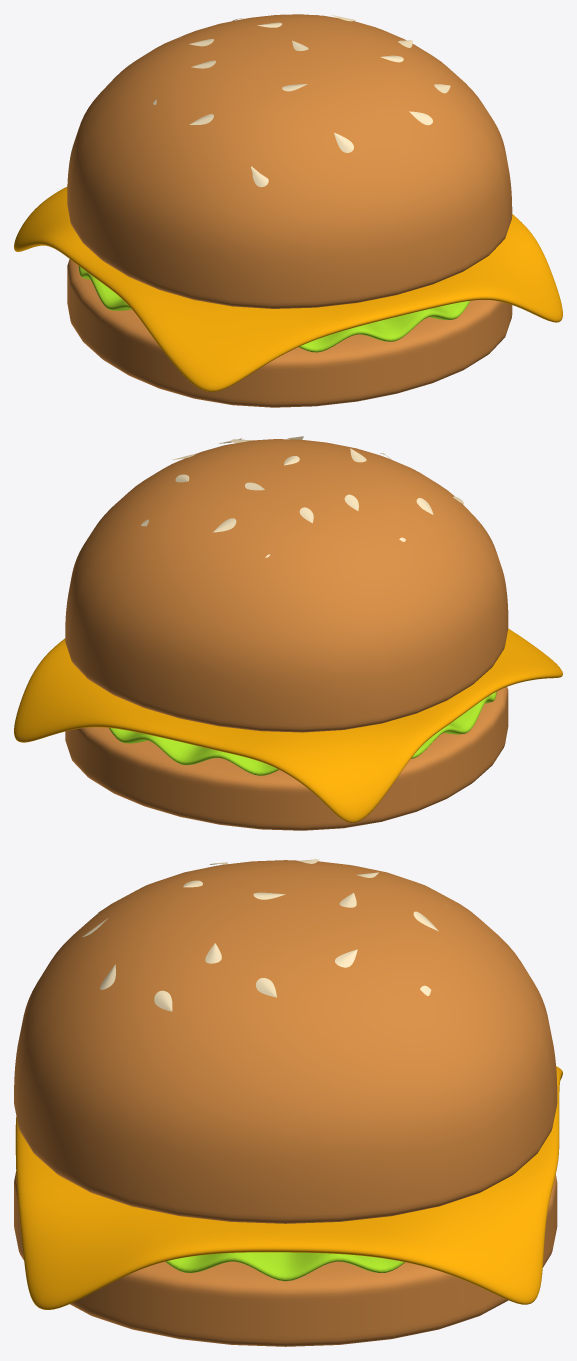
The model's file is burger lettuce cheese.glb.
The picture shows the model from 3 angles, top to bottom: view 1: azimuth 30°, elevation 25°; view 2: azimuth 150°, elevation 25°; view 3: azimuth 270°, elevation 25°; orthographic projection. The views are drawn at different scales.
Parts seen in each view (by area): view 1: burger lettuce cheese.002; view 2: burger lettuce cheese.002; view 3: burger lettuce cheese.002.
Part boxes in pixels (x1,y1,x2,y2): burger lettuce cheese.002: (14, 14, 562, 407); burger lettuce cheese.002: (14, 436, 562, 830); burger lettuce cheese.002: (14, 859, 562, 1346).
Bounding box in the file's own units: 1.2 × 0.8413 × 1.19.
